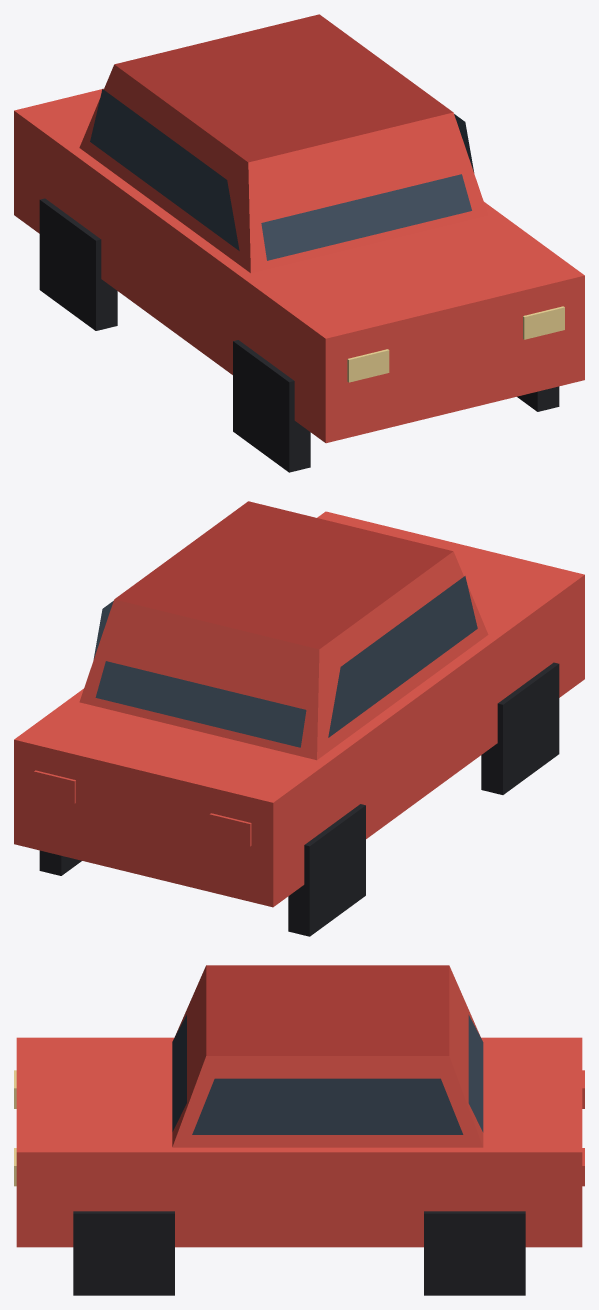
The model's file is P_ParkedCarRed.fbx.
The picture shows the model from 3 angles, top to bottom: view 1: azimuth 30°, elevation 25°; view 2: azimuth 150°, elevation 25°; view 3: azimuth 270°, elevation 25°; orthographic projection. The views are drawn at different scales.
Parts seen in each view (by area): view 1: P_ParkedCarRed; view 2: P_ParkedCarRed; view 3: P_ParkedCarRed.
Boxes of the visible parts, <box> form: P_ParkedCarRed: <box>14,14,584,472</box>; P_ParkedCarRed: <box>14,501,584,936</box>; P_ParkedCarRed: <box>14,965,584,1295</box>.
Size of the model in its own units: 1 by 0.88 by 2.02.
